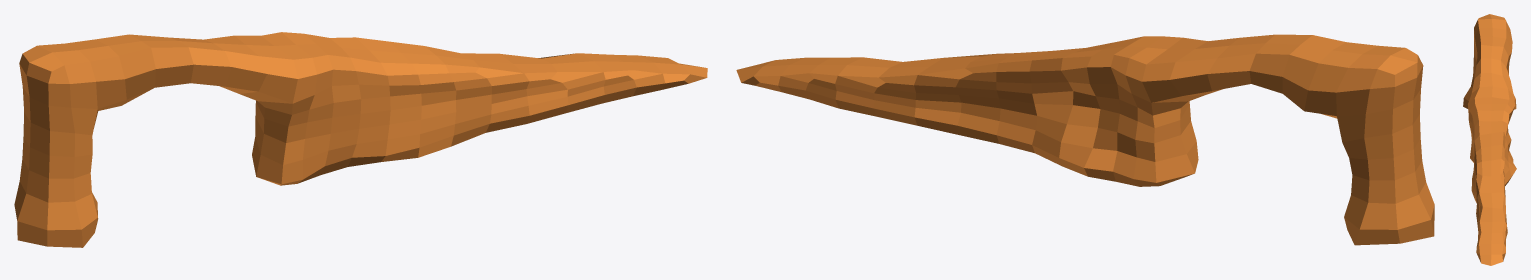
File: rock_arch_2.glb
3 views of the same model, side by side, from view 1: azimuth 30°, elevation 25°; view 2: azimuth 150°, elevation 25°; view 3: azimuth 270°, elevation 25° (orthographic). The views are drawn at different scales.
Visible parts, largest first — view 1: arch2; view 2: arch2; view 3: arch2.
Part boxes in pixels (x1,y1,x2,y2): arch2: (14,32,707,247); arch2: (736,34,1434,245); arch2: (1463,14,1516,265).
Bounding box in the file's own units: 210 × 50.5 × 28.25.
